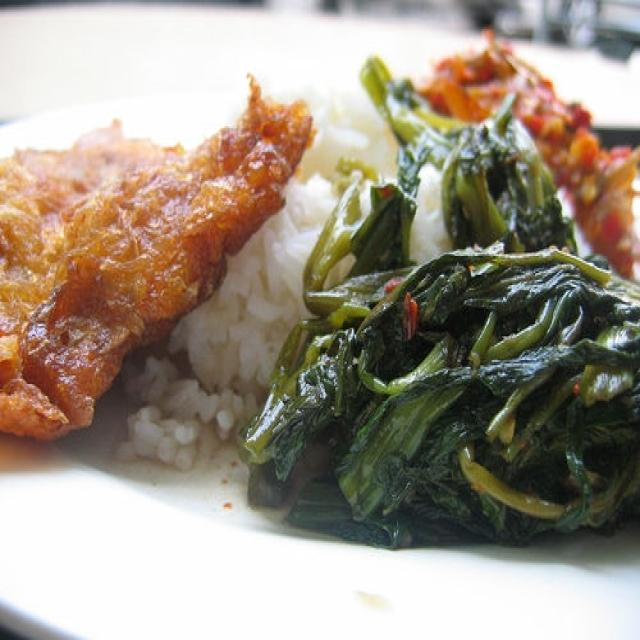米饭主食: (5, 12, 626, 623)
